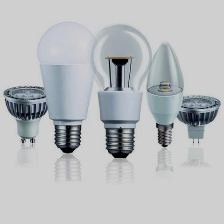light_bulb: (83, 18, 155, 160), (33, 15, 101, 159), (140, 33, 187, 154), (0, 77, 59, 149), (171, 91, 221, 146)
